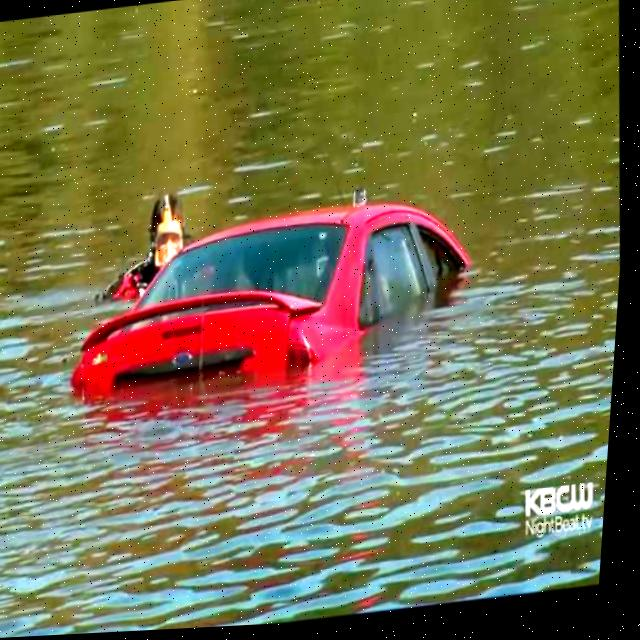rescuer: (83, 185, 227, 311)
